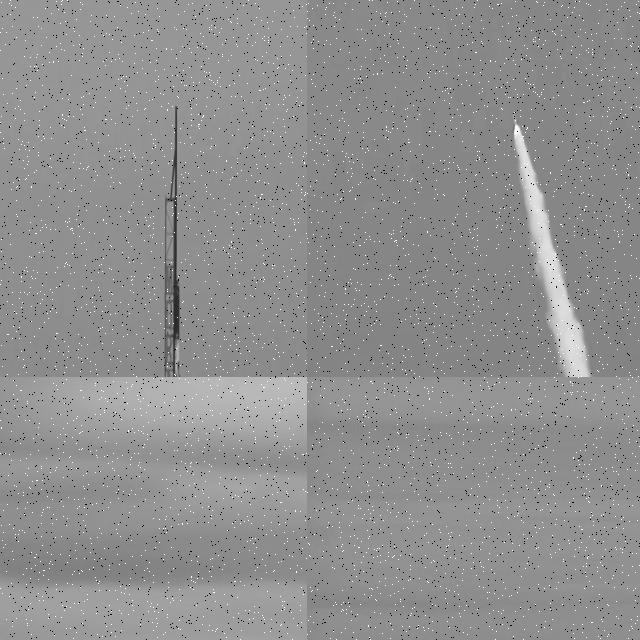Rocket: (169, 281, 184, 377), (512, 112, 519, 129)
